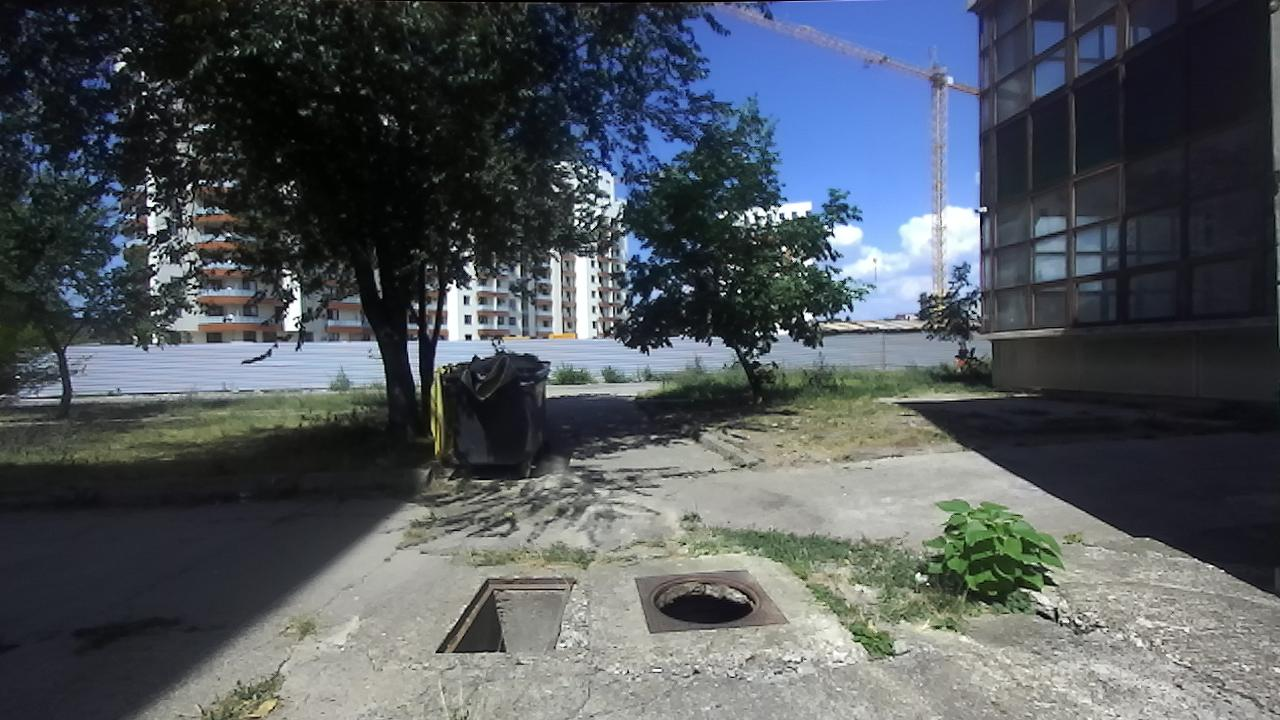drain: (436, 574, 581, 660), (646, 573, 767, 623)
